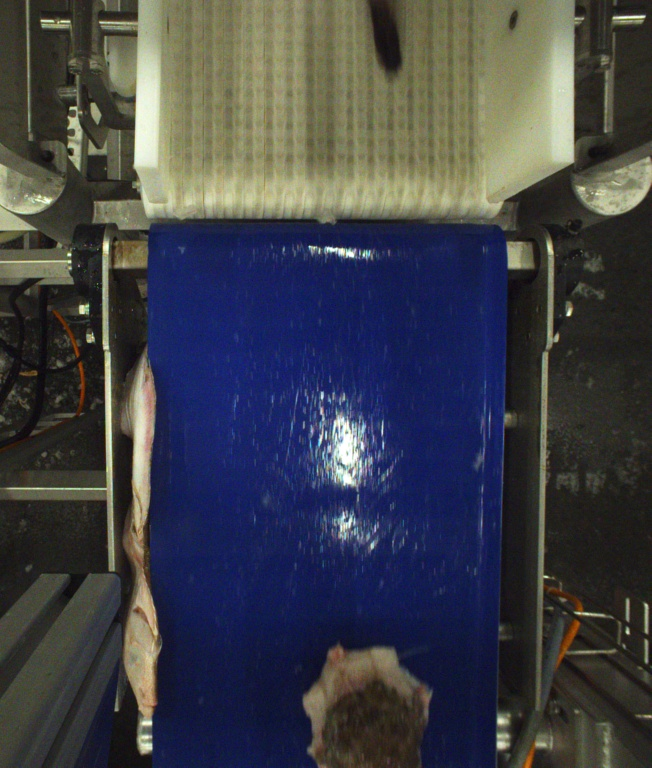ANF: (302, 641, 432, 768)
